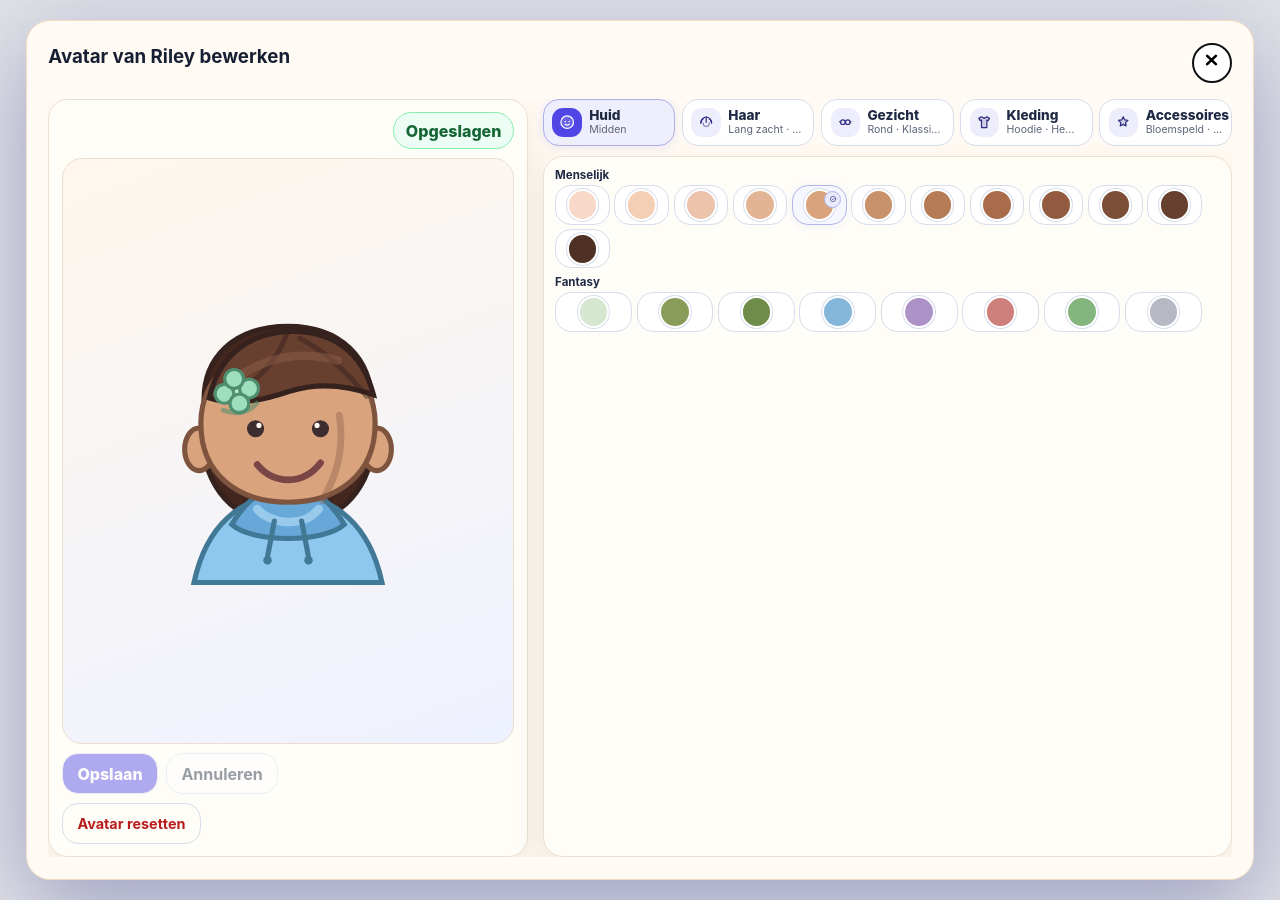
FamilyAvatarEditor › shows style and color together in one surface without a sub-tab hop
The image size is (1280, 900).
Click the button "Accessoires Bloemspeld · Mintgroen". click: (1165, 122)
box: [1099,99,1232,146]
(page scrolled)
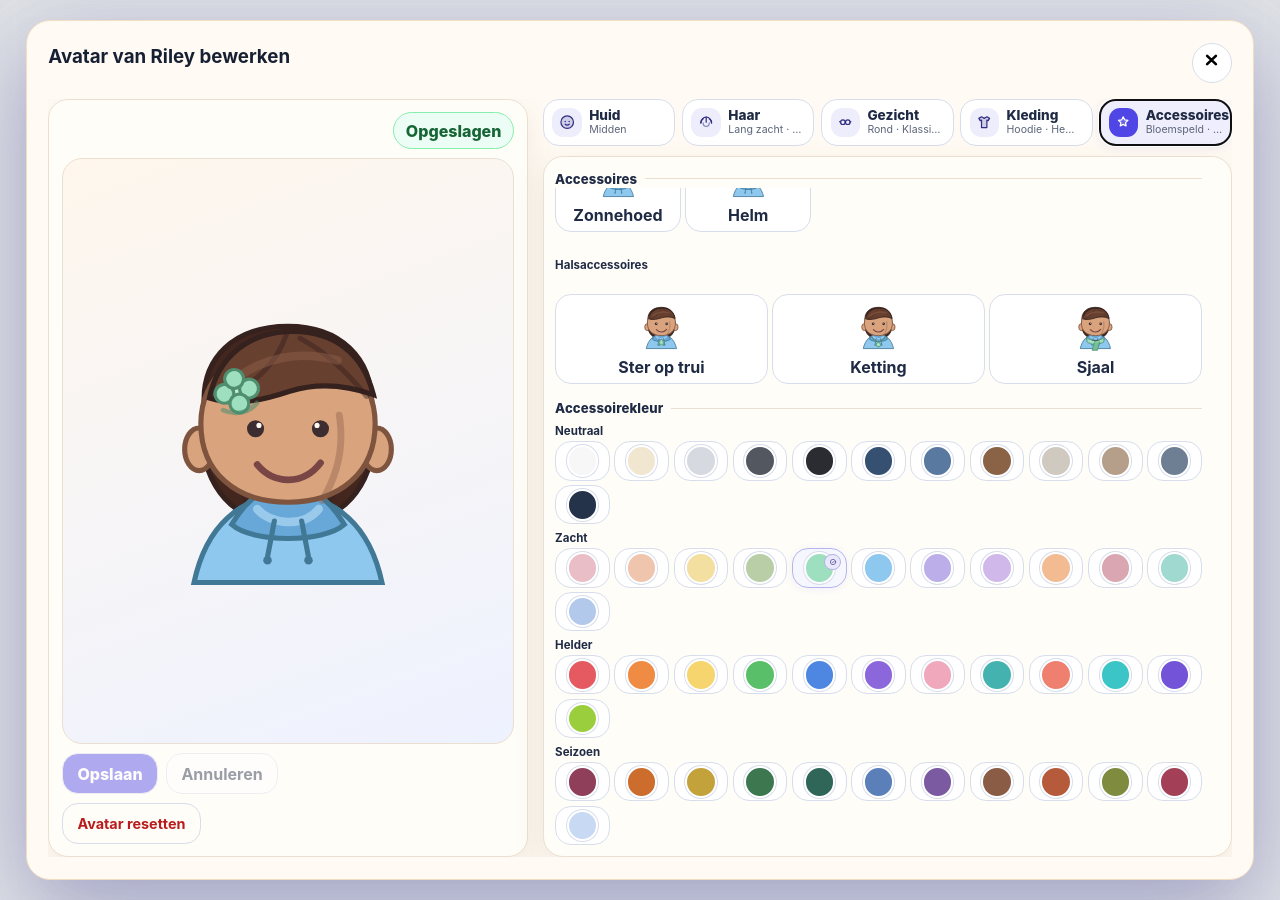
Result: the heading "Accessoires" is shown at [555,168,1202,188]
Result: the heading "Halsaccessoires" is shown at [555,258,648,272]
Result: the heading "Accessoirekleur" is shown at [555,398,1202,418]
